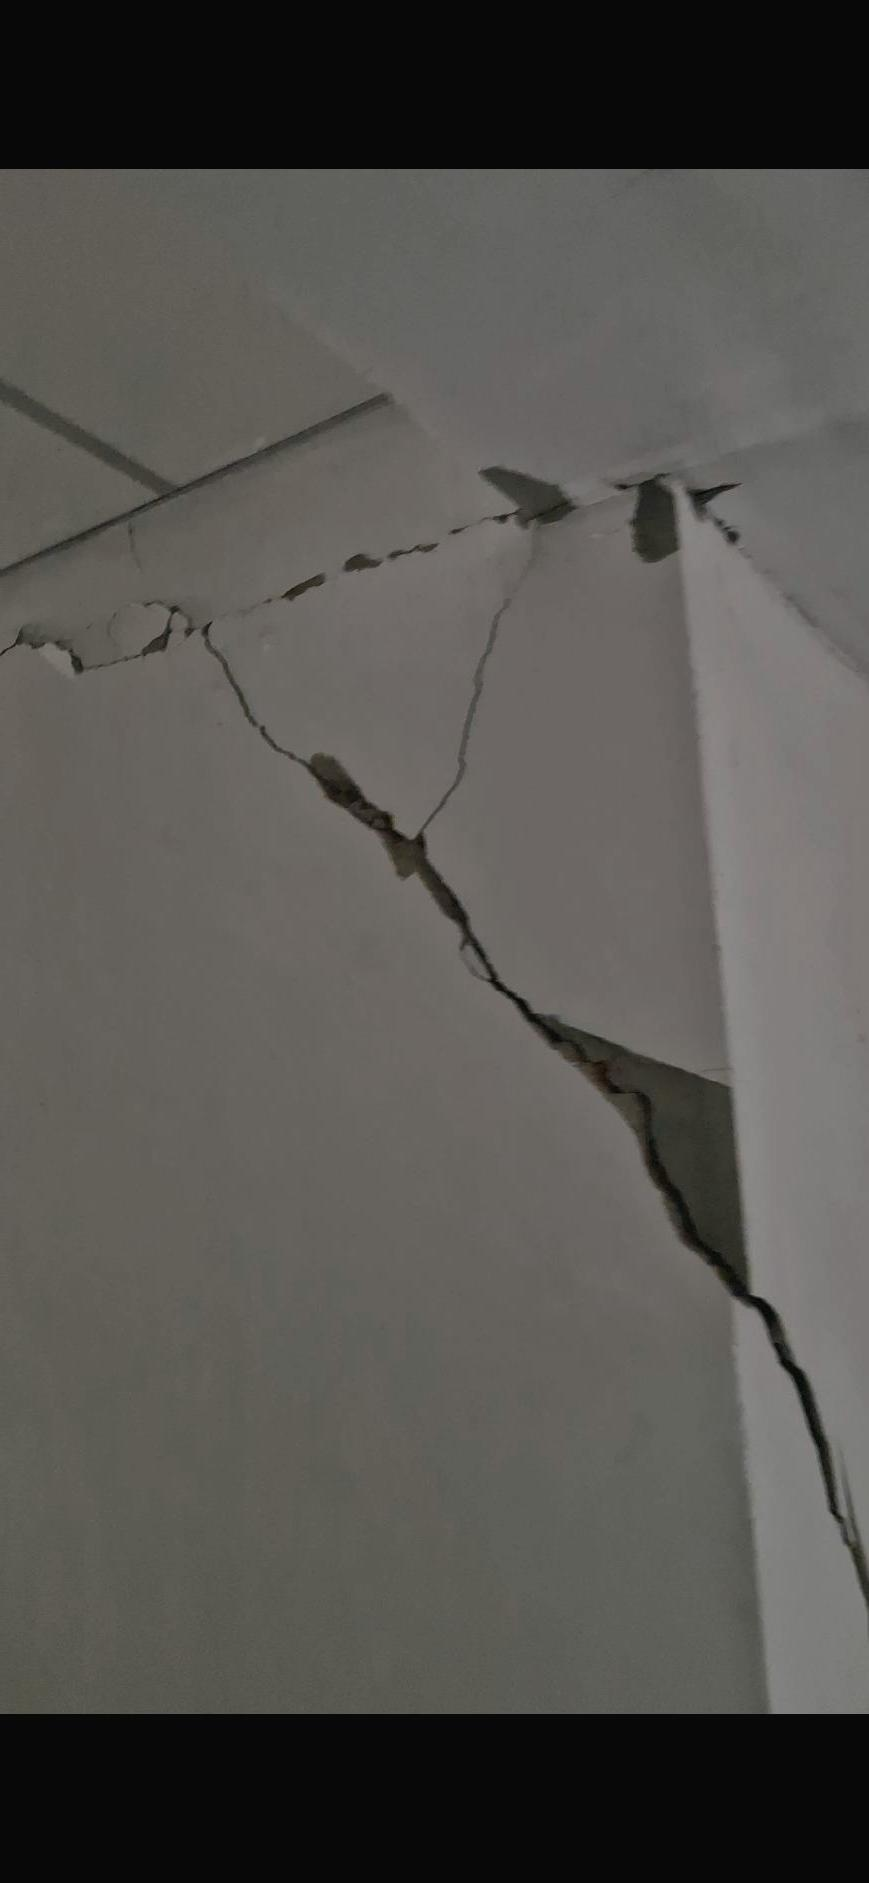High: (4, 472, 869, 1636)
